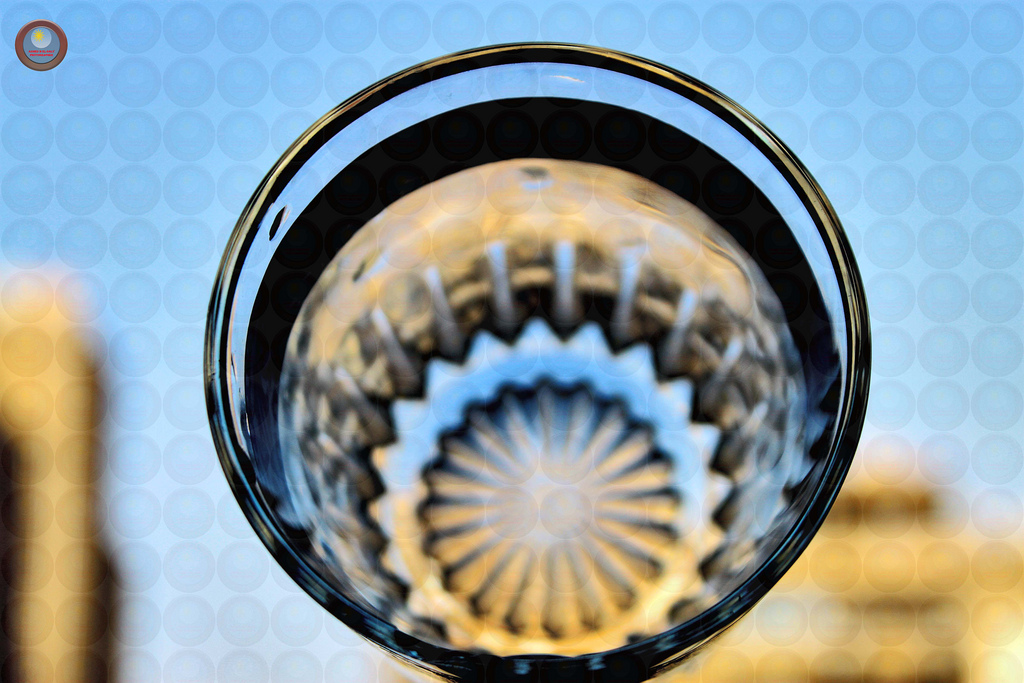glass of water: (203, 46, 872, 674)
